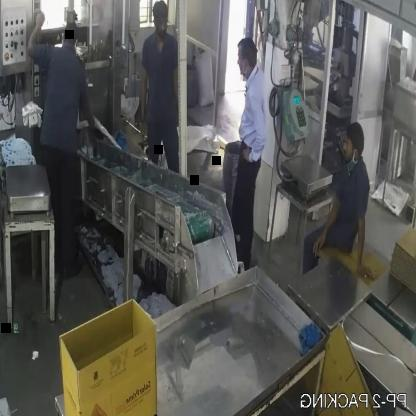no_glove: (308, 185, 348, 268), (352, 194, 382, 287), (76, 84, 107, 148), (244, 98, 266, 180), (131, 54, 153, 135), (22, 10, 51, 69)
